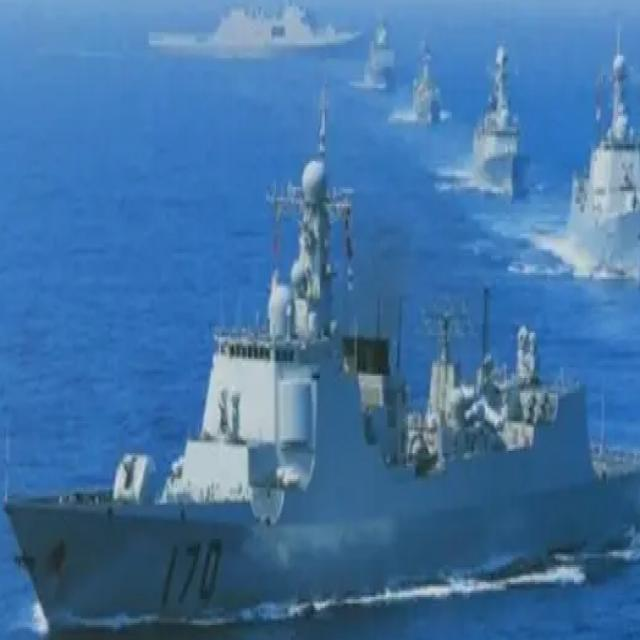navalvessels: (0, 152, 640, 620), (570, 17, 640, 284), (149, 0, 362, 58), (473, 43, 532, 195), (362, 8, 398, 92), (410, 36, 440, 127)
